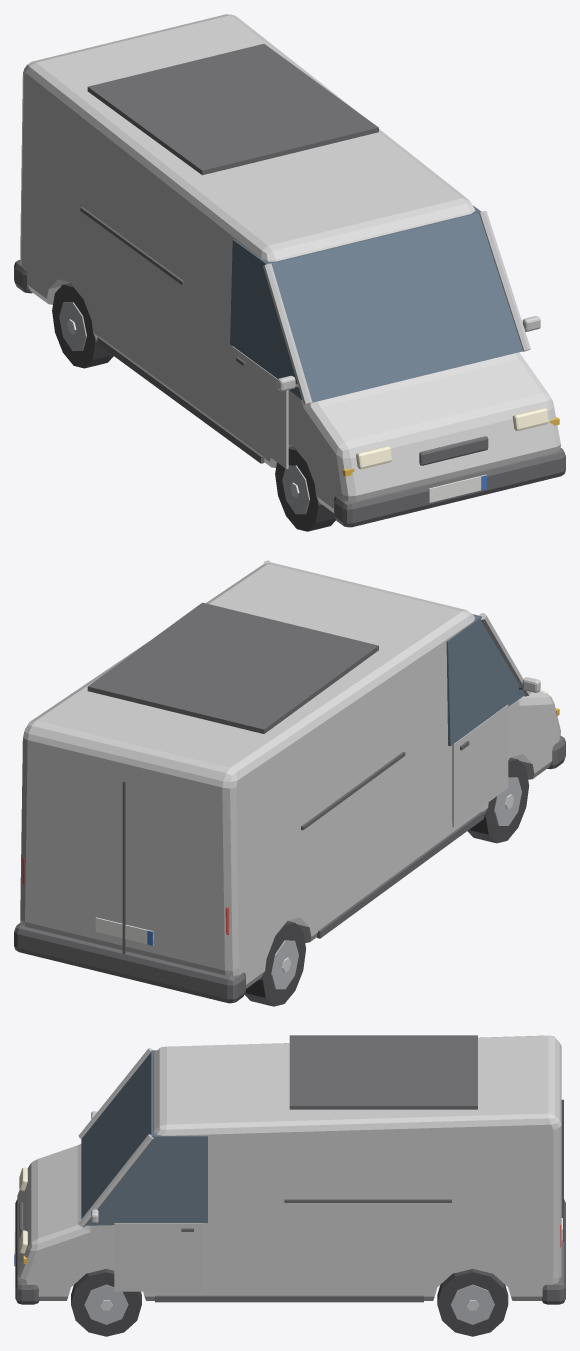
The model's file is van-delivery.glb.
3 renders of one model, top to bottom at view 1: azimuth 30°, elevation 25°; view 2: azimuth 150°, elevation 25°; view 3: azimuth 270°, elevation 25°, orthographic. The views are drawn at different scales.
Parts seen in each view (by area): view 1: body, detach_bumper_front, detach_door_right, wheel-back-right, wheel-front-right; view 2: body, detach_bumper_back, detach_door_right, wheel-back-right, wheel-front-right; view 3: body, detach_door_left, wheel-back-left, wheel-front-left, detach_bumper_back, detach_bumper_front.
Part boxes in pixels (x1,y1,x2,y2): body: [20, 14, 560, 512]; detach_bumper_front: [334, 448, 565, 527]; detach_door_right: [232, 346, 288, 468]; wheel-back-right: [52, 282, 113, 368]; wheel-front-right: [275, 446, 335, 531]; body: [20, 560, 560, 988]; detach_bumper_back: [14, 922, 245, 1003]; detach_door_right: [452, 704, 508, 827]; wheel-back-right: [244, 921, 305, 1006]; wheel-front-right: [467, 757, 529, 843]; body: [17, 1035, 563, 1302]; detach_door_left: [114, 1223, 203, 1291]; wheel-back-left: [437, 1269, 508, 1336]; wheel-front-left: [71, 1269, 141, 1336]; detach_bumper_back: [542, 1199, 565, 1304]; detach_bumper_front: [14, 1199, 39, 1304].
Size of the model in its own units: 2.36 by 2.36 by 5.27.
